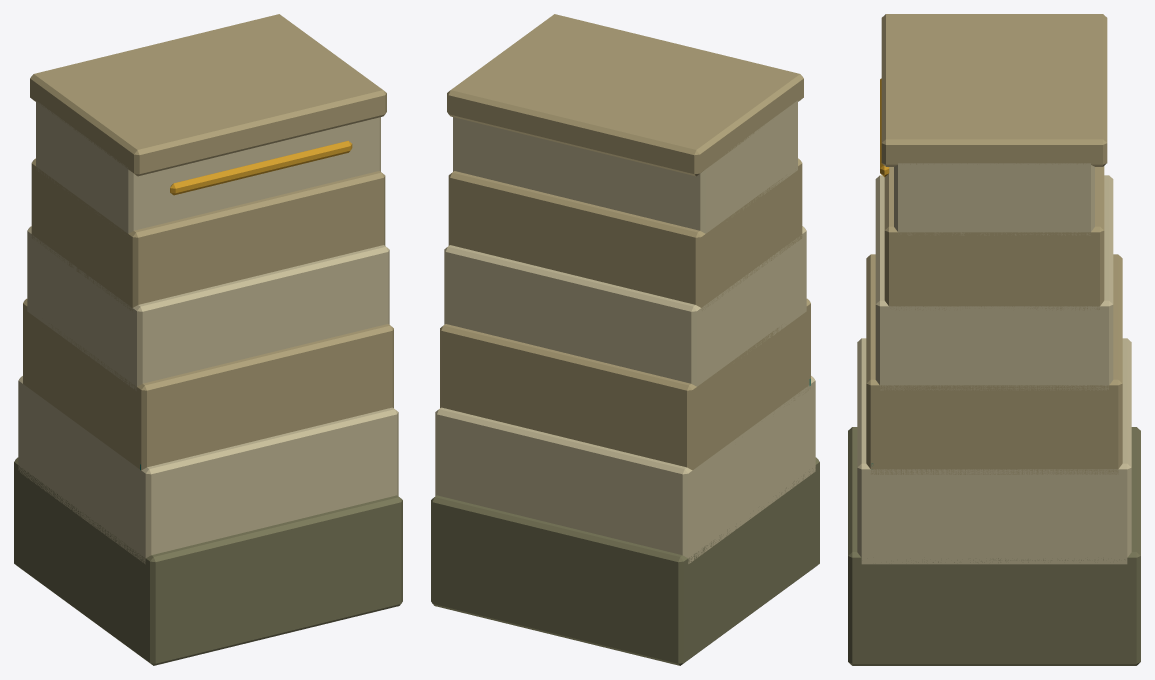
The model's file is south_american-wall.glb.
3 views of the same model, side by side, from view 1: azimuth 30°, elevation 25°; view 2: azimuth 150°, elevation 25°; view 3: azimuth 270°, elevation 25° (orthographic). The views are drawn at different scales.
Parts seen in each view (by area): view 1: body; view 2: body; view 3: body.
Part boxes in pixels (x1=…): body: x1=14, y1=14, x2=402, y2=665; body: x1=431, y1=14, x2=819, y2=665; body: x1=848, y1=14, x2=1140, y2=665.
Bounding box in the file's own units: 1 × 1.91 × 0.96.
